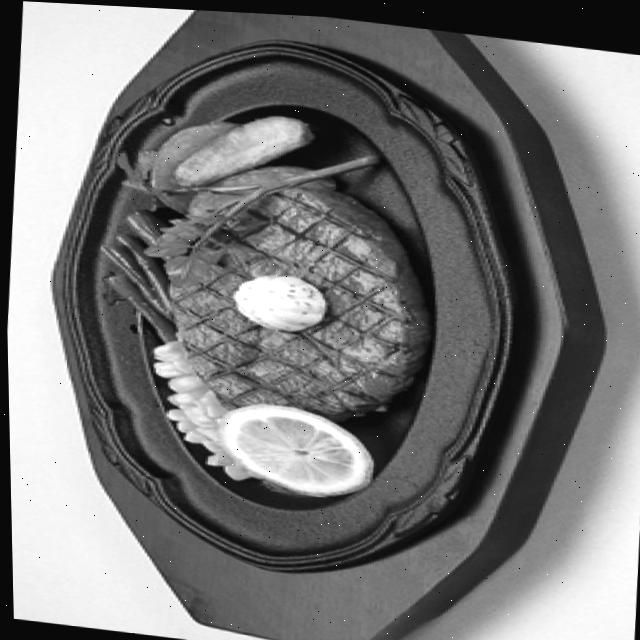牛肉菜式: (131, 152, 445, 437)
